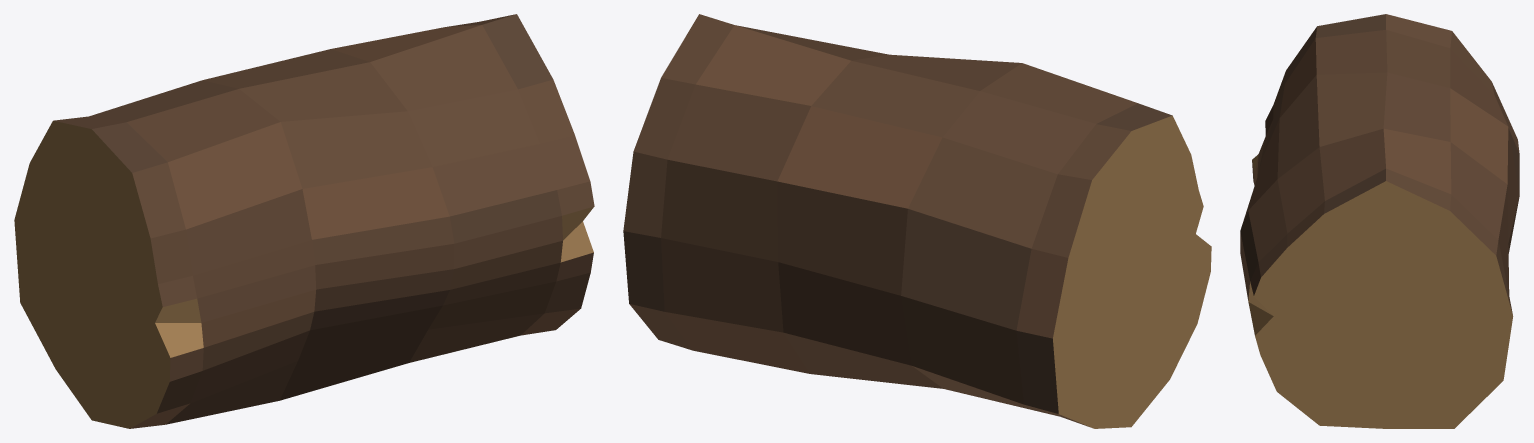
The model's file is rootfall-center.glb.
The picture shows the model from 3 angles, left to right: view 1: azimuth 30°, elevation 25°; view 2: azimuth 150°, elevation 25°; view 3: azimuth 270°, elevation 25°; orthographic projection. The views are drawn at different scales.
Visible parts, largest first — view 1: rootfall-center; view 2: rootfall-center; view 3: rootfall-center.
Boxes of the visible parts, left/top/right/bottom form: rootfall-center: left=14, top=14, right=594, bottom=428; rootfall-center: left=623, top=14, right=1211, bottom=428; rootfall-center: left=1240, top=14, right=1519, bottom=428.
Size of the model in its own units: 3.3 by 2.26 by 2.21.
Materials: 1 (1 with a texture image).
